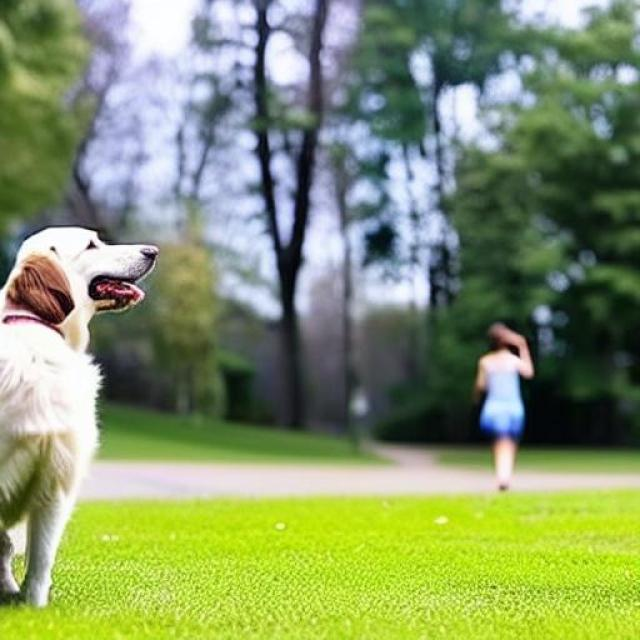Dog: (0, 227, 159, 607)
